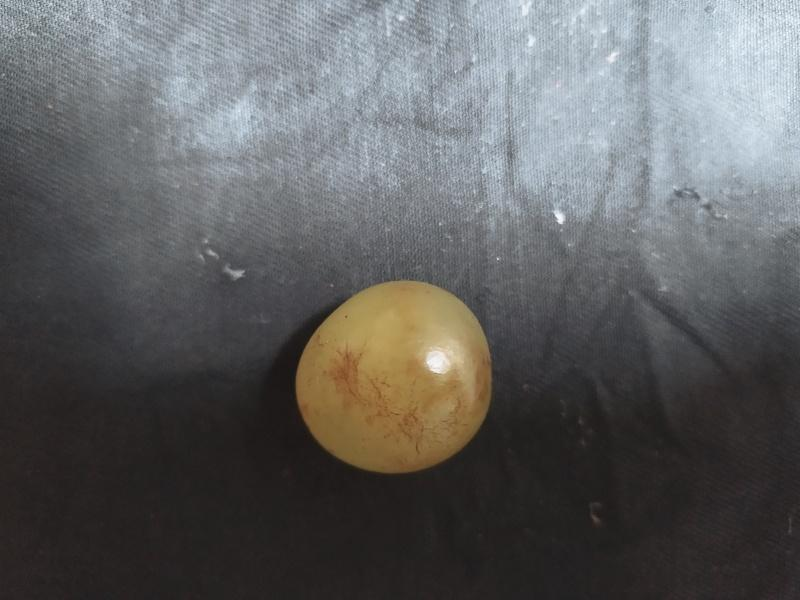Grape Rotten: (290, 278, 497, 476)
